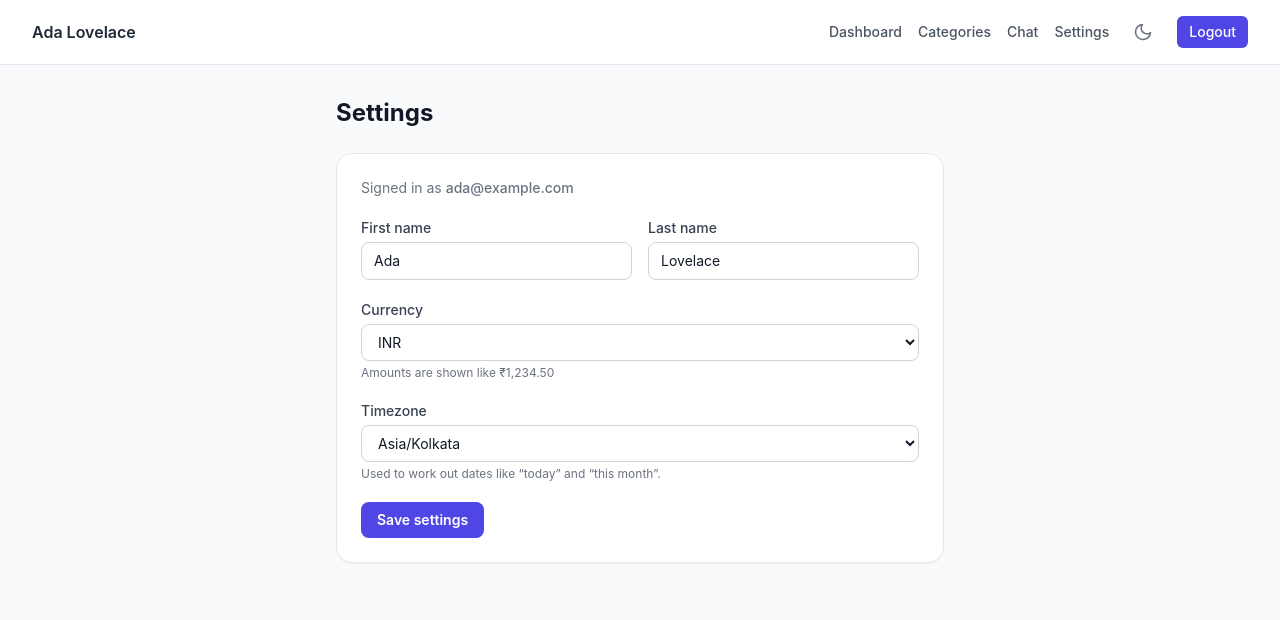
it: SettingsPage › shows the server's validation message on failure
Step 1. Select "EUR" in the dropdown labelled "Currency" → point(640, 342), box [361,324,919,361]
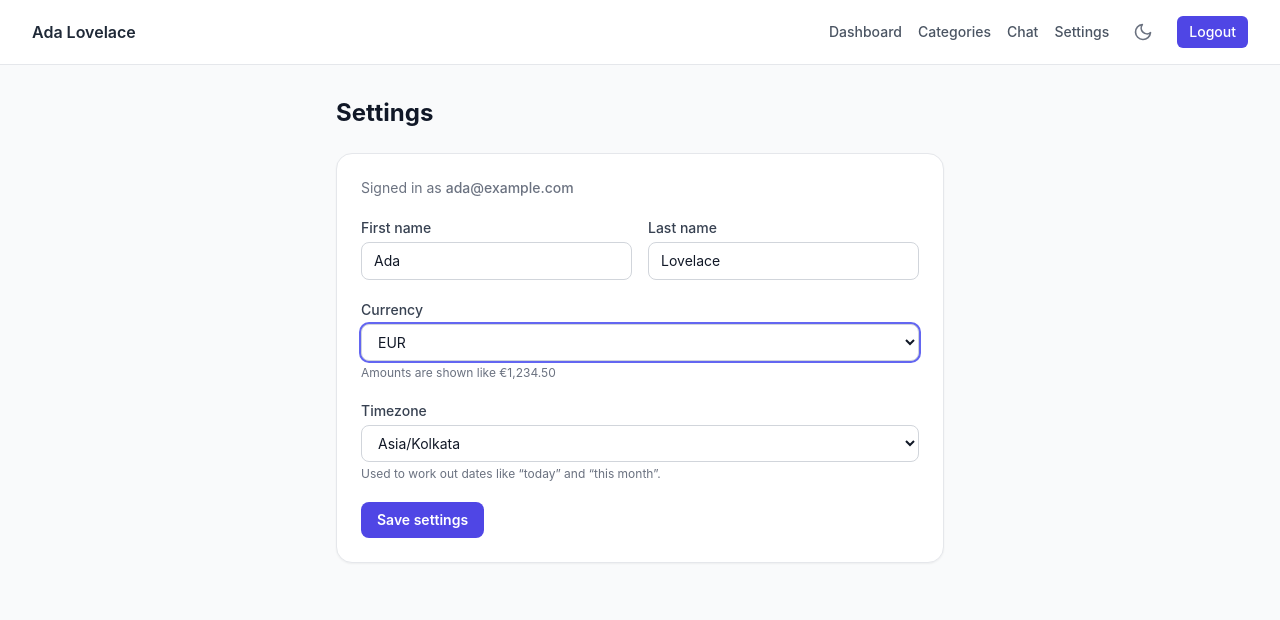
Step 2. Click the button "Save settings" → point(423, 520), box [361,502,484,538]
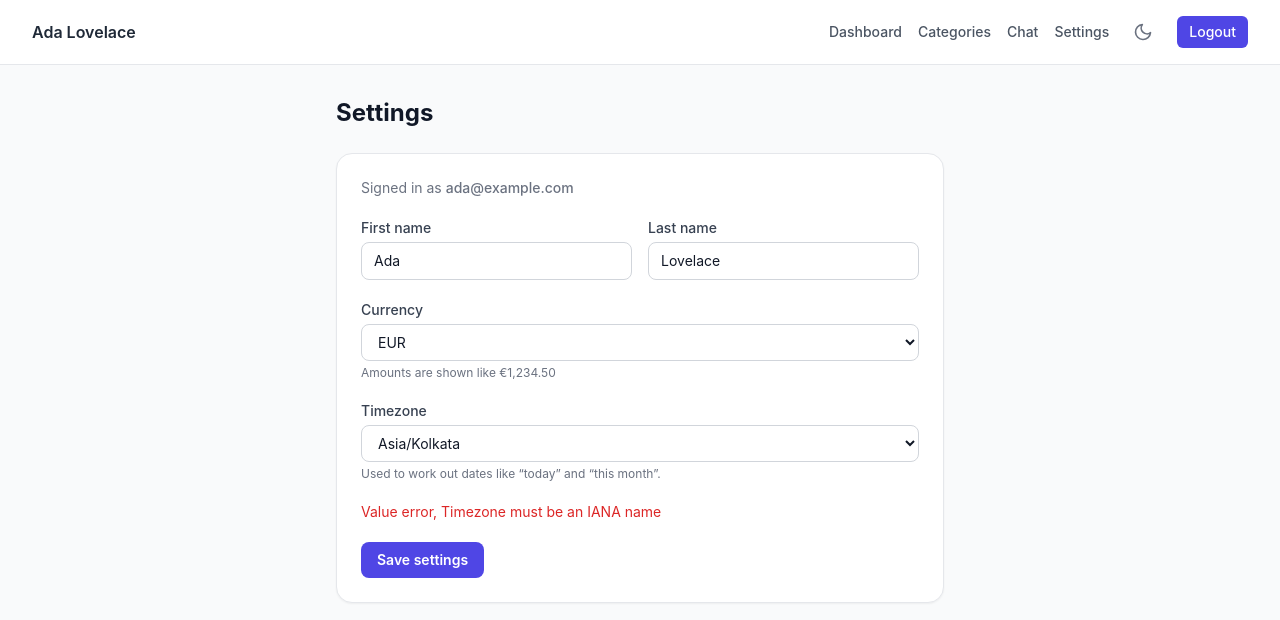
Check: the message shows "Timezone must be an IANA name", box [361,503,661,520]
